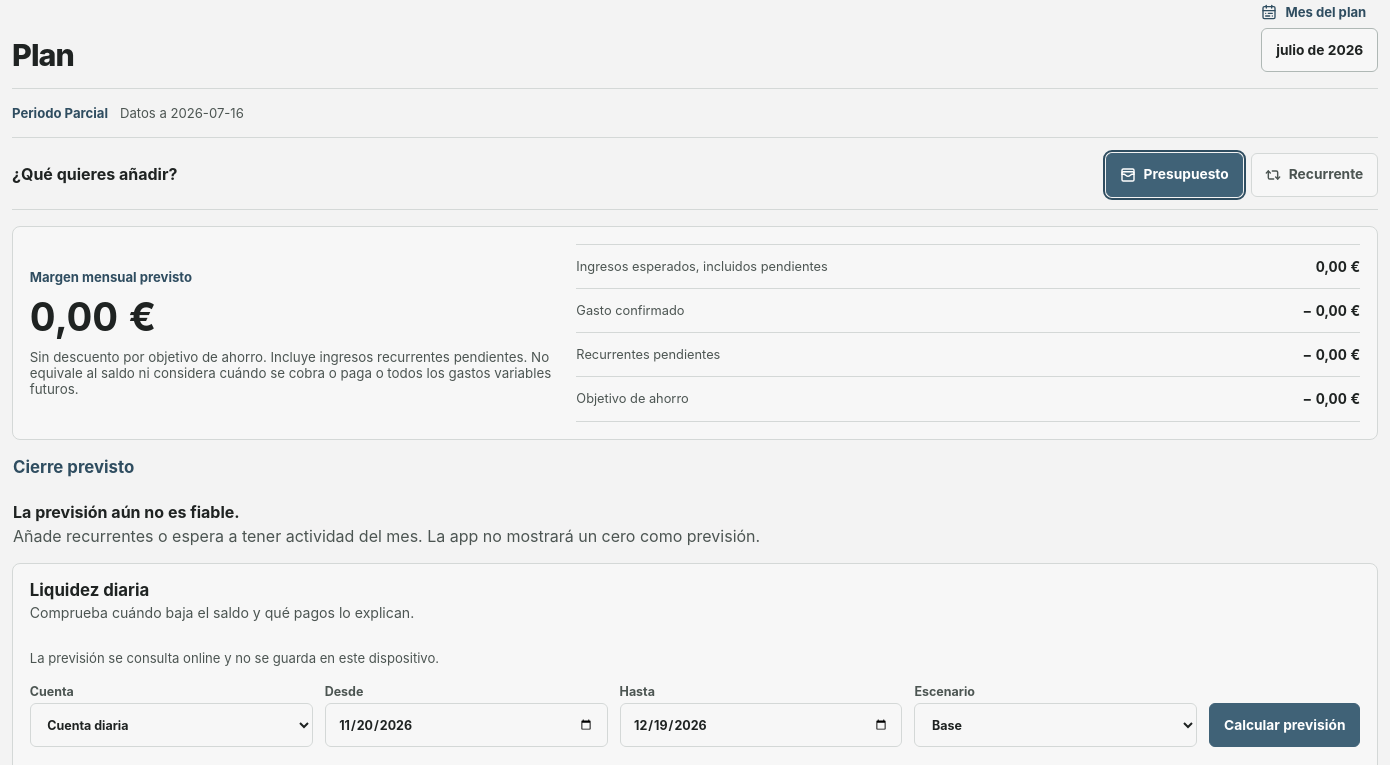
PlanningView › consolida los estados vacíos y permite guardar un presupuesto
Expected: the heading "Plan" is shown, [12,37,74,73]
Click the button "Presupuesto" at [1174, 175], box [1106,153,1243,197]
(page scrolled)
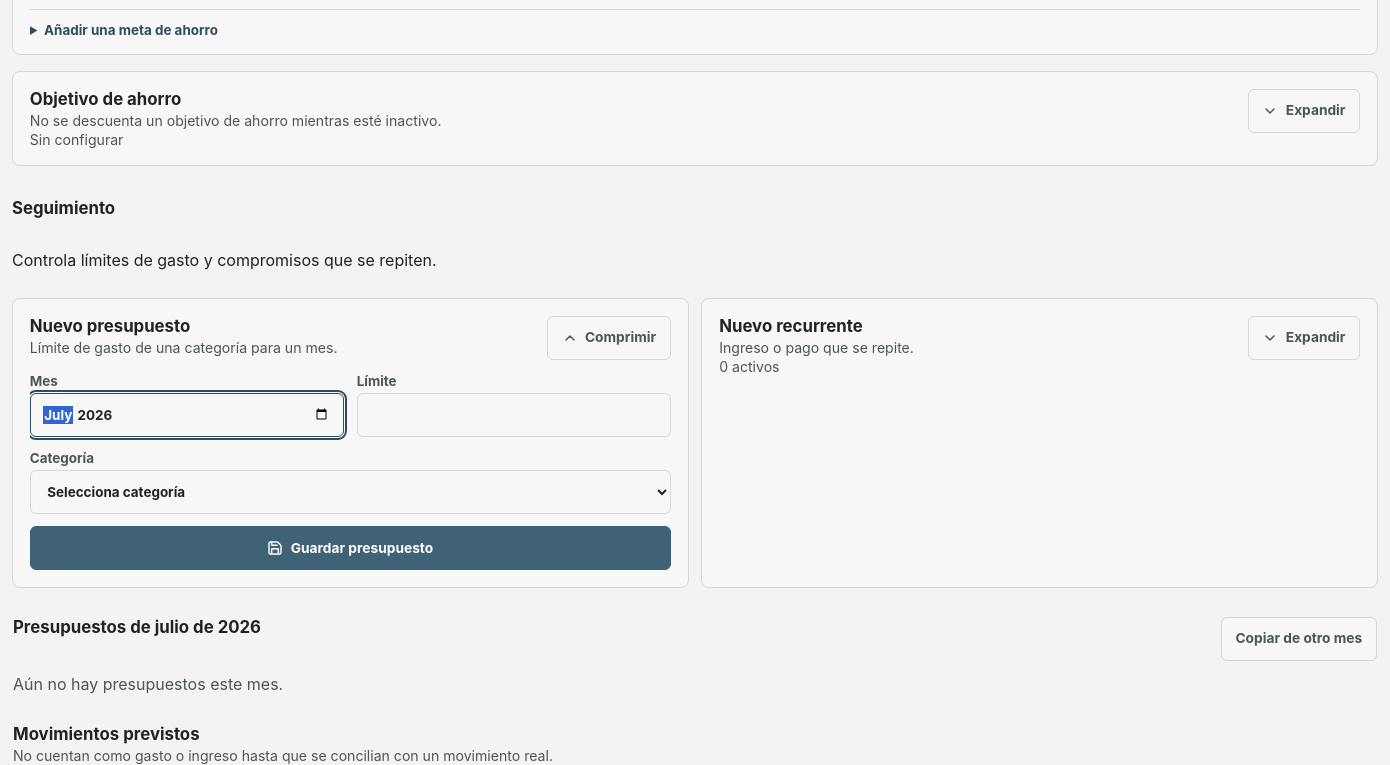
Expected: the text "Aún no hay presupuestos este mes." is shown, [13,674,283,694]
Expected: the button with aria-label "Comprimir nuevo presupuesto" is shown, [547,316,671,360]
Type "300" into the number field labelled "Límite" at [514, 415], box [357,393,671,437]
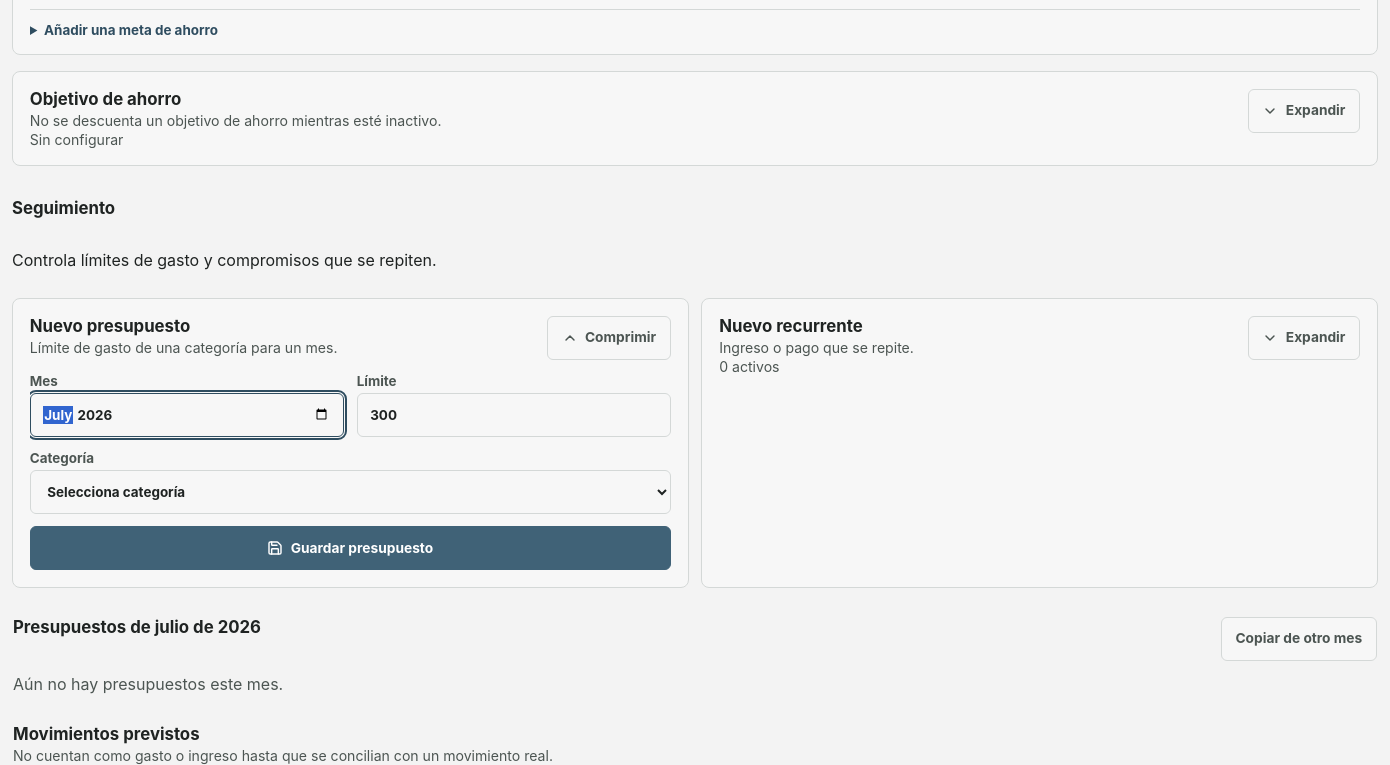
Select "Comida" in the dropdown labelled "Categoría" at [350, 492], box [30,470,671,514]
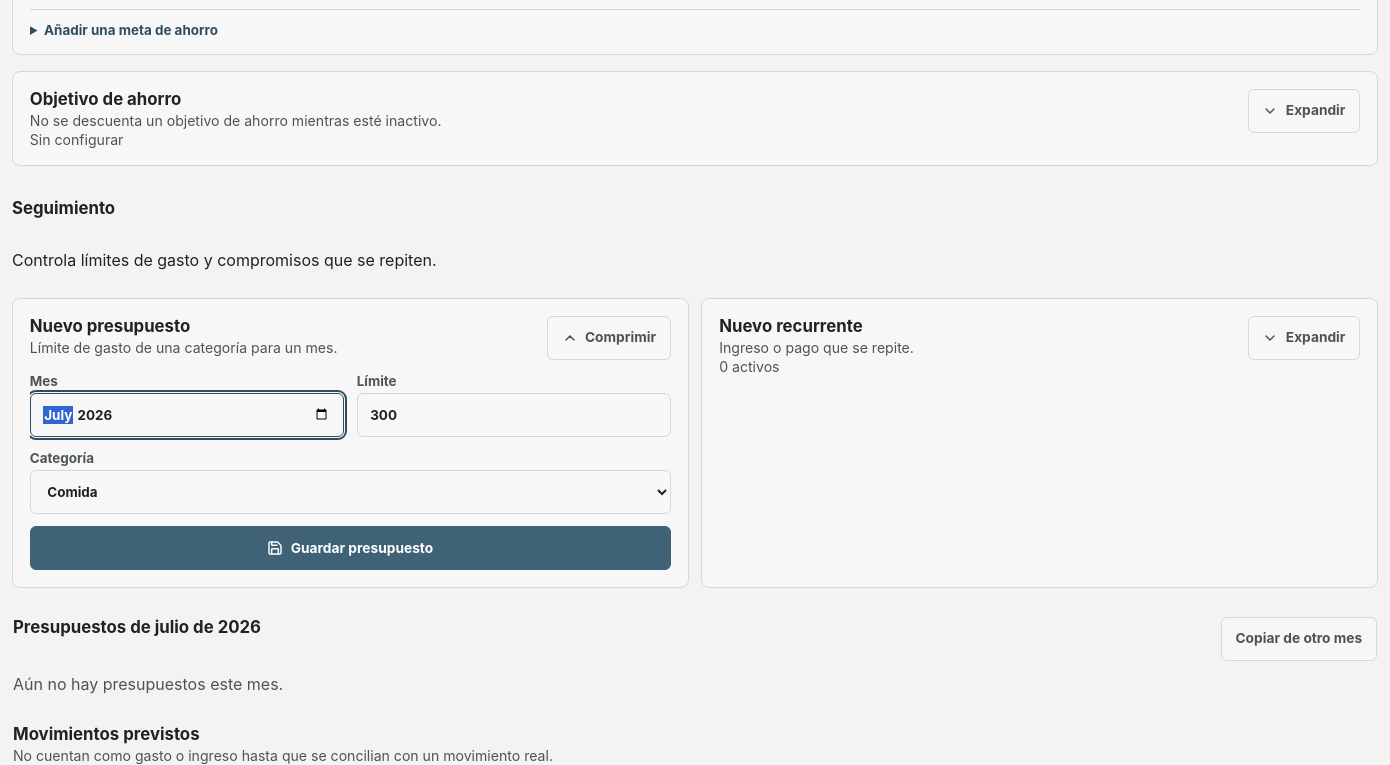
Click the button "Guardar presupuesto" at [350, 548], box [30,526,671,570]
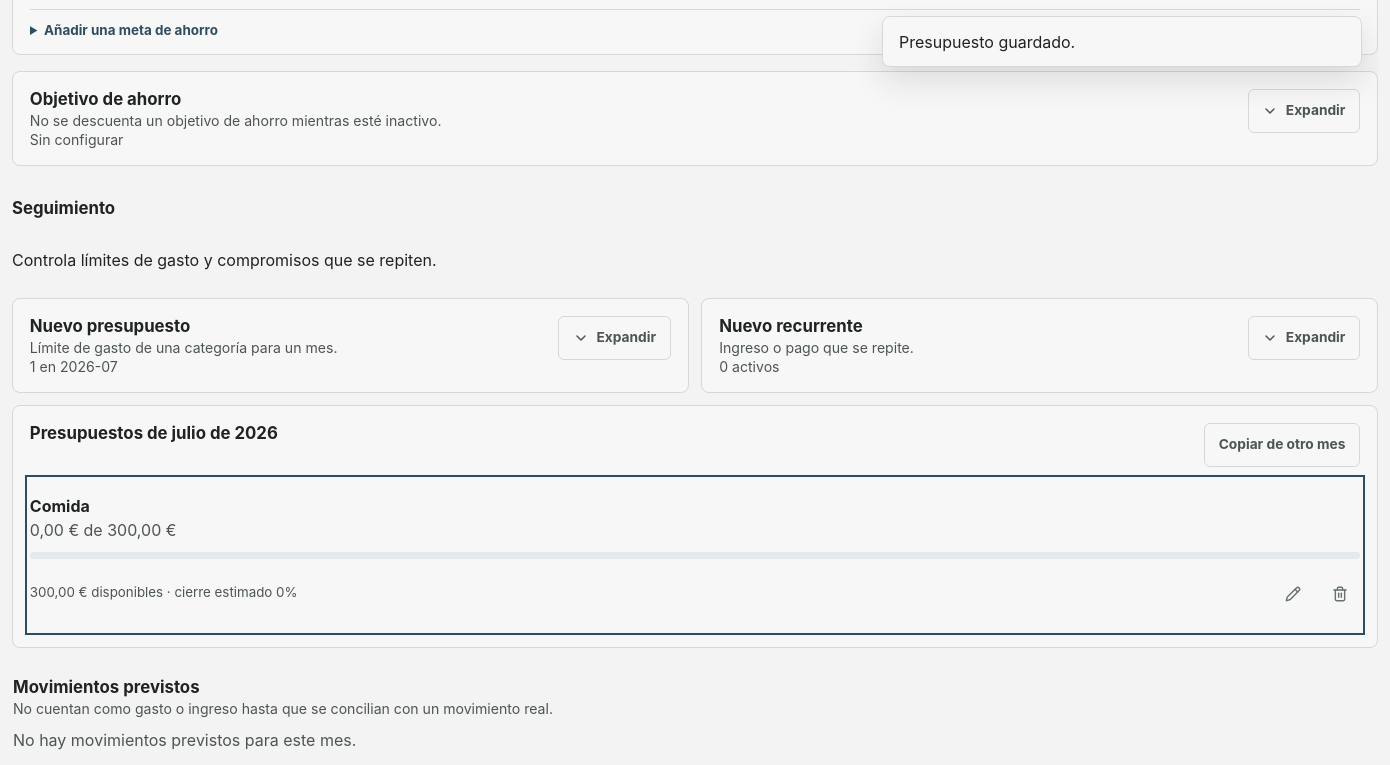
Expected: the message reads "Presupuesto guardado.", [899,32,1075,52]
Expected: the element that starts with "Comida" is shown, [30,496,90,516]
